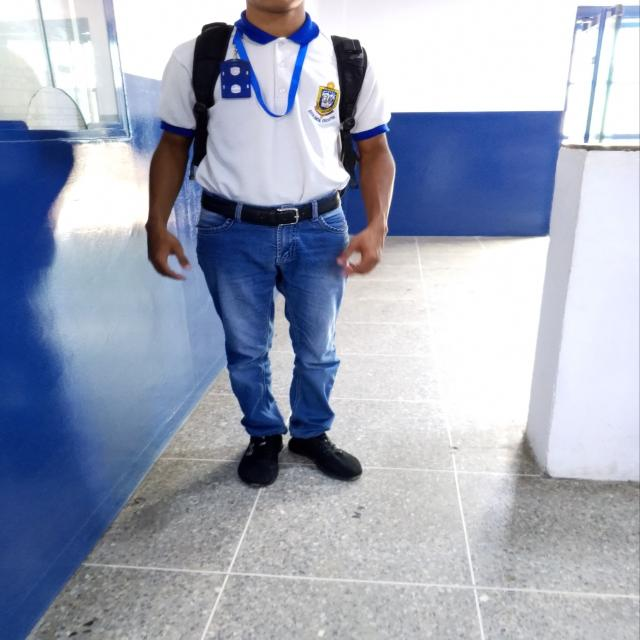carnet: (220, 62, 251, 98)
uniforme_superior: (158, 9, 392, 207)
